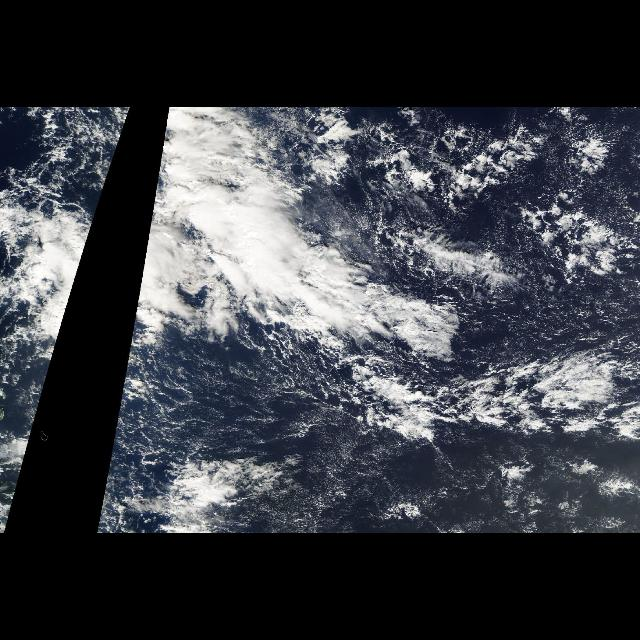Gravel: (299, 112, 633, 288)
Sugar: (148, 322, 640, 532)
